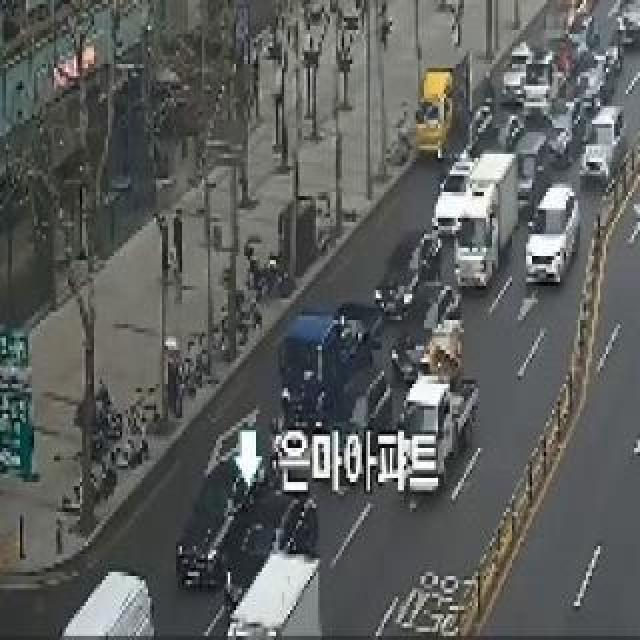truck: (281, 283, 387, 427), (218, 552, 334, 640), (451, 143, 519, 283), (418, 39, 474, 161)
